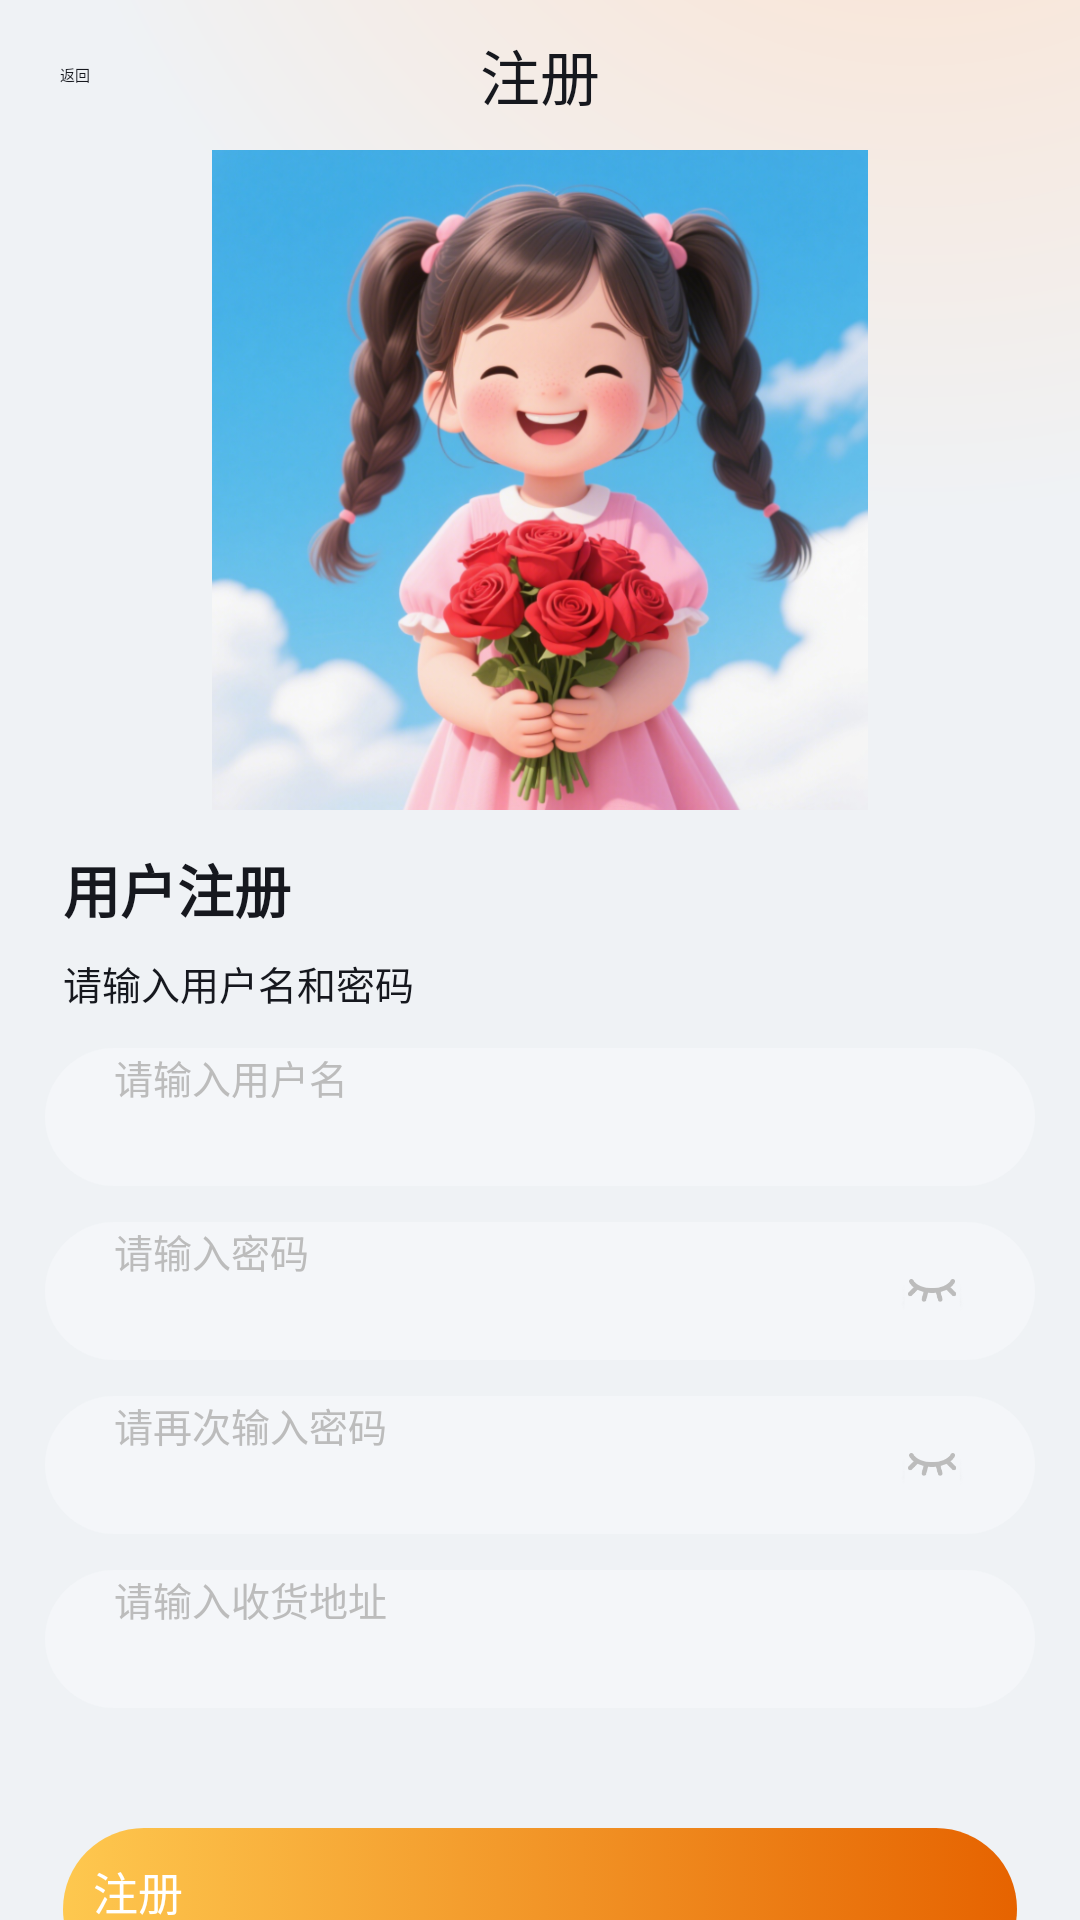

Named icons in this screenshot (1080 × 1920) and their centers, (x=x, y=y):
password close: (x=932, y=1290), (x=932, y=1464)
